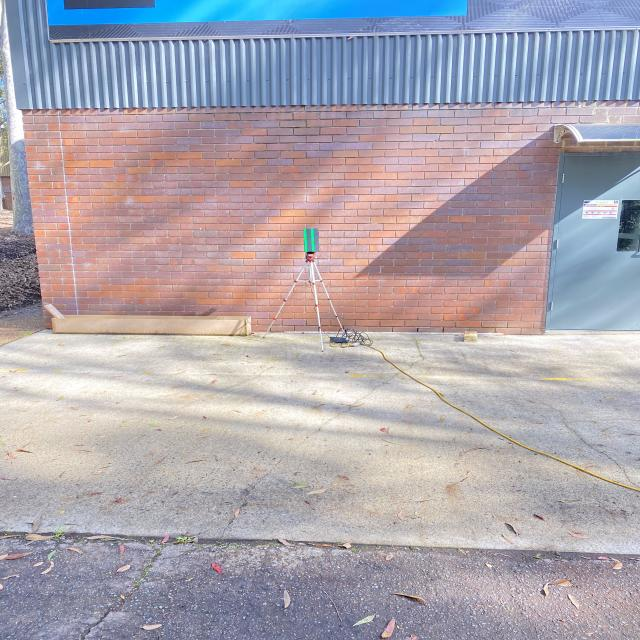matrix: (302, 228, 321, 253)
